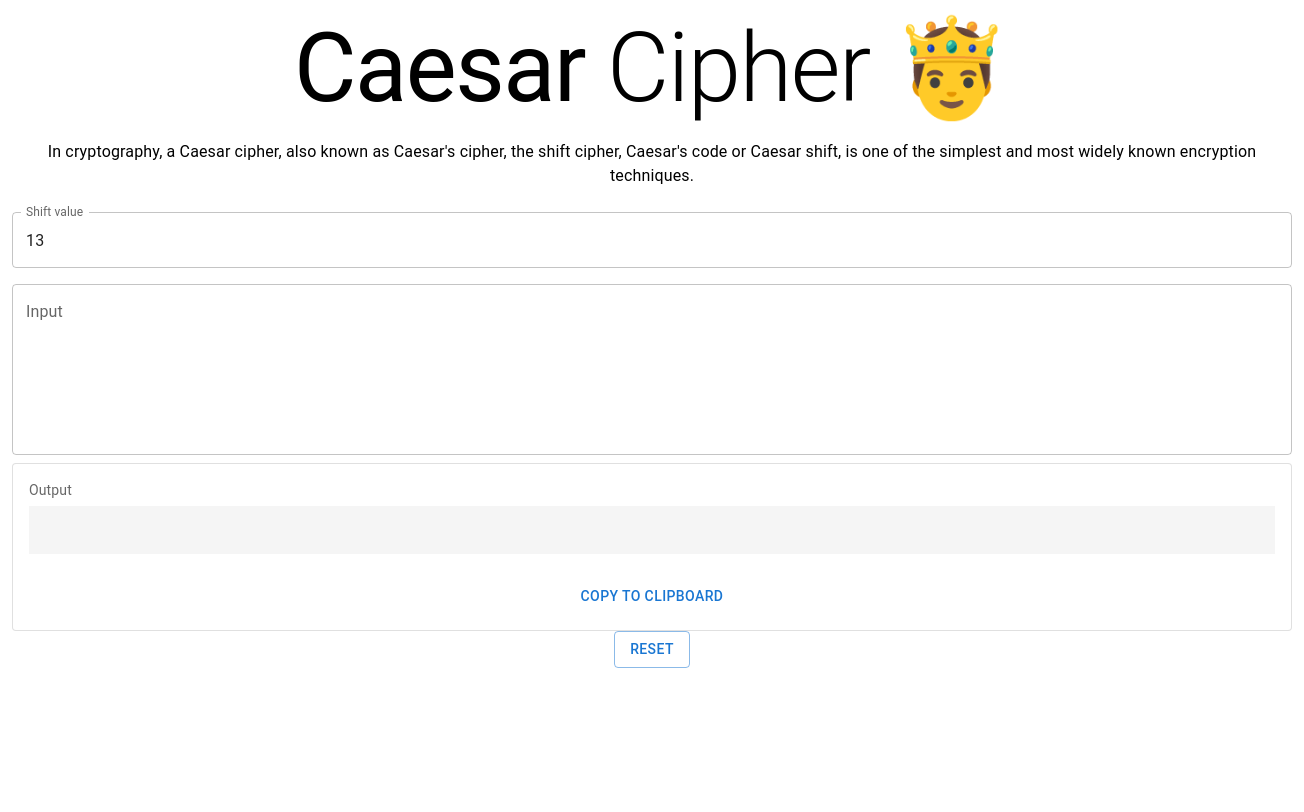
Scenario: <CaesarCipher/> › should reset everything to defaults when user clicks the 'Reset' button
Type "test" into the text box labelled "Input" at point(652, 370), box [26,300,1278,438]
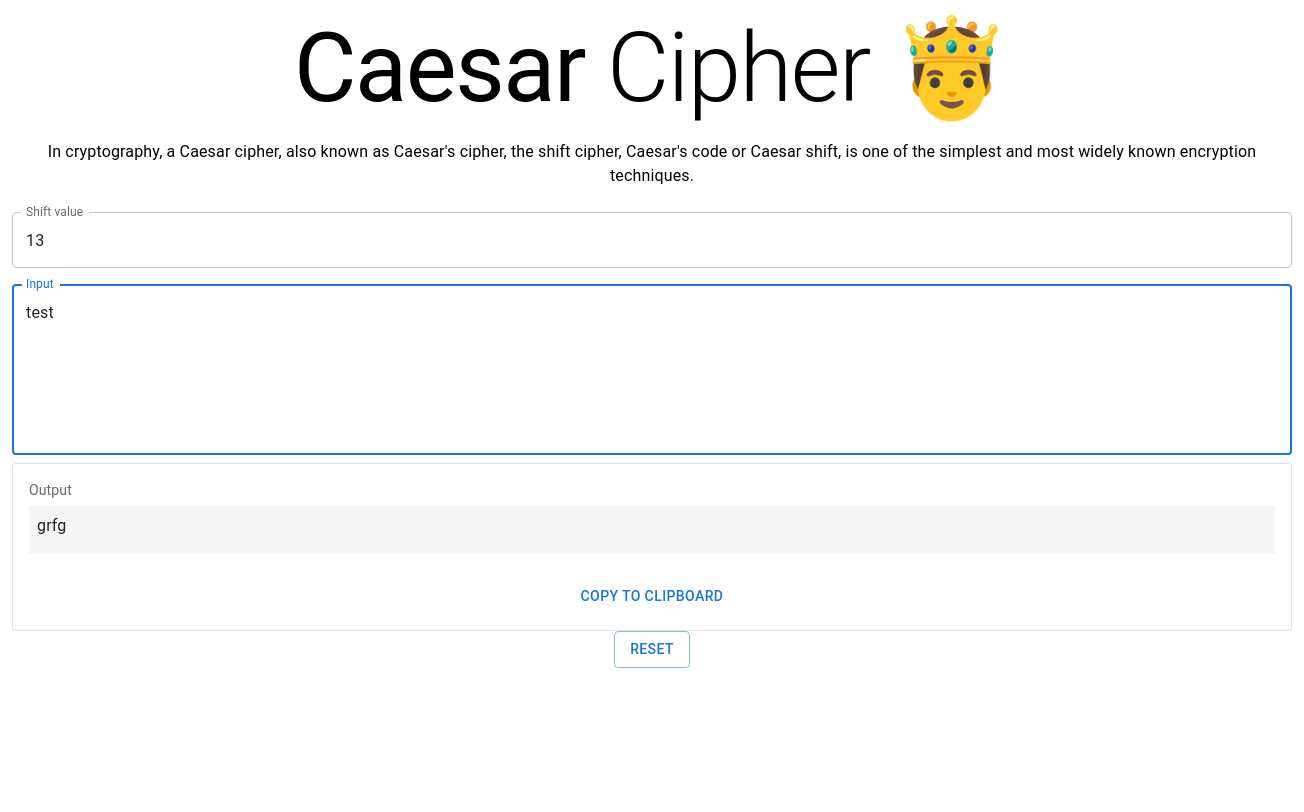
Replace the text in the field labelled "Shift value" with "1" at point(652, 240), box [12,212,1292,268]
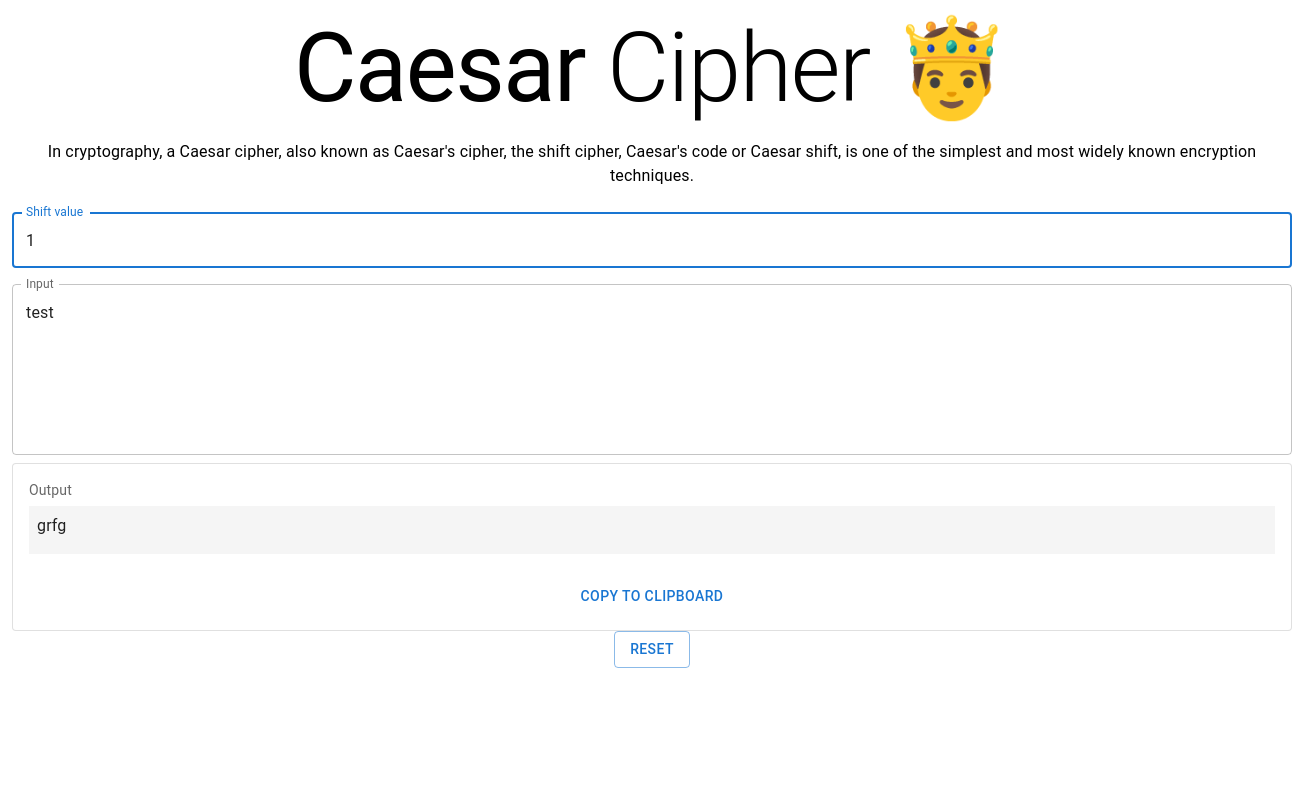
Click the button "Reset" at point(652, 650), box [614,631,690,668]
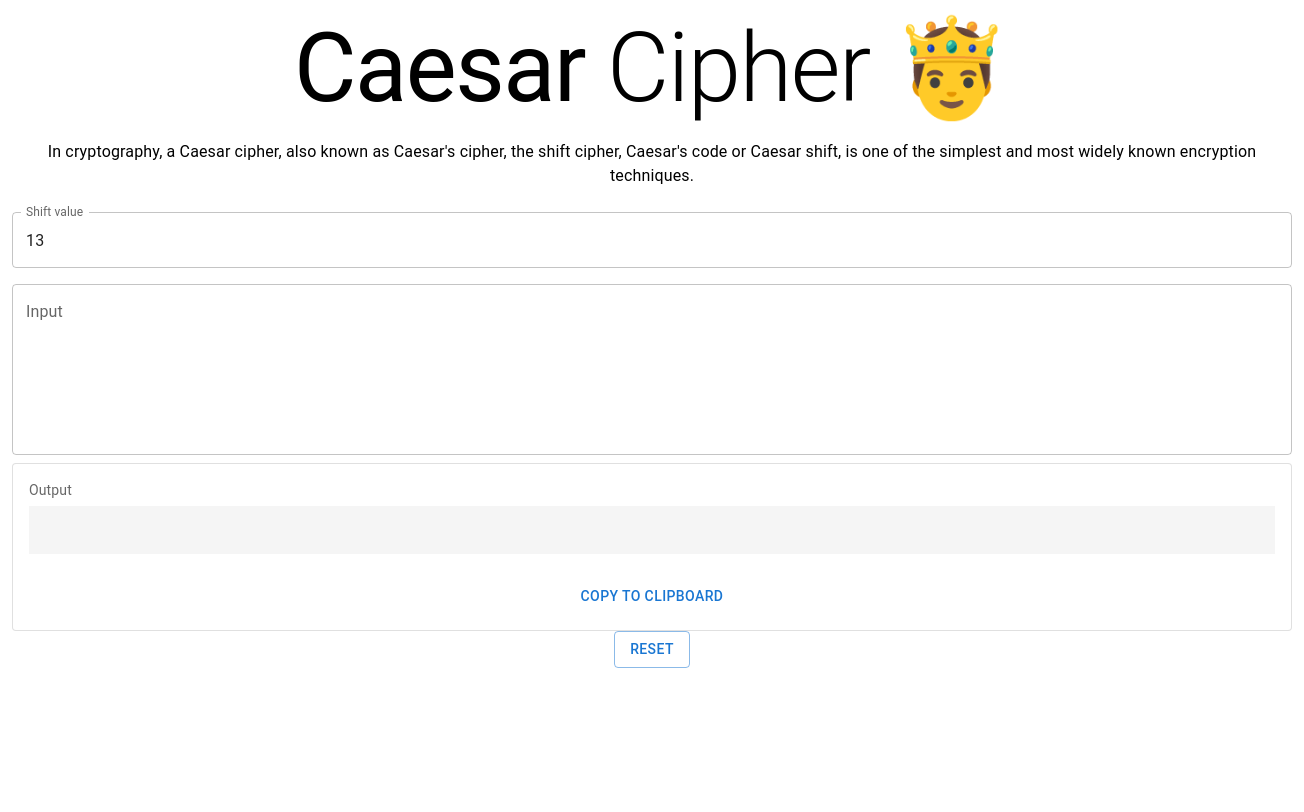
Check: the field labelled "Shift value" holds "13", box [12,212,1292,268]
Check: the text box labelled "Input" is empty, box [26,300,1278,438]
